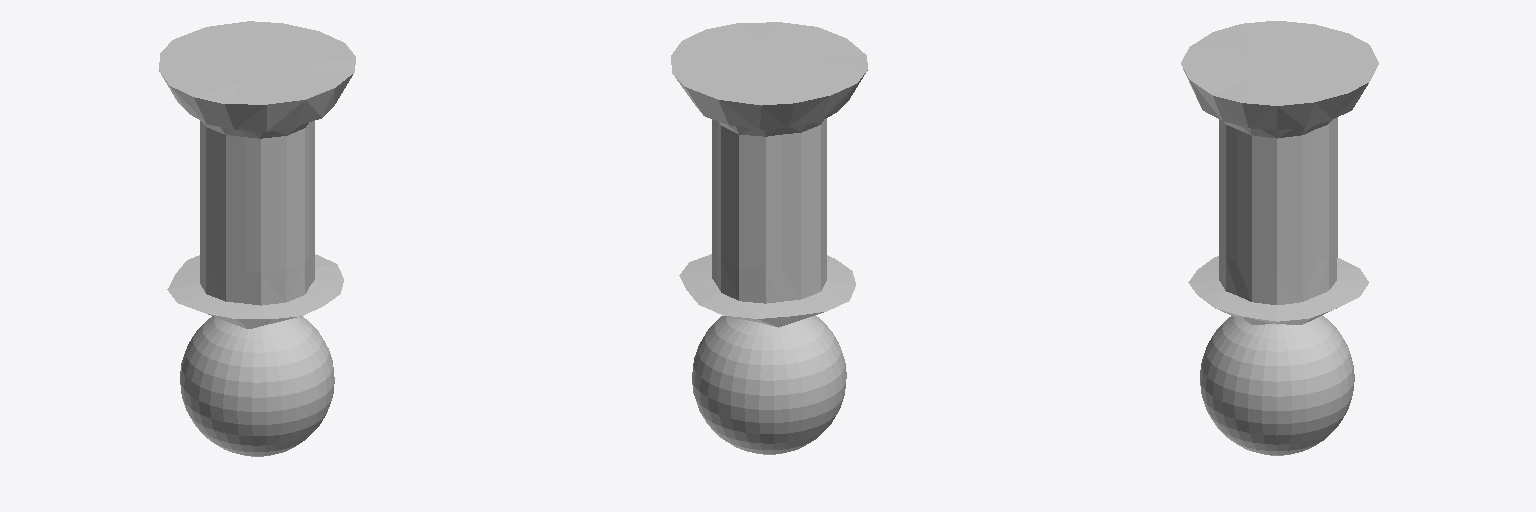
The model's file is Player.obj.
3 views of the same model, side by side, from view 1: azimuth 30°, elevation 25°; view 2: azimuth 150°, elevation 25°; view 3: azimuth 270°, elevation 25° (orthographic).
Parts seen in each view (by area): view 1: 立方体; view 2: 立方体; view 3: 立方体.
Boxes of the visible parts, x1=… form: 立方体: x1=159, y1=21, x2=355, y2=456; 立方体: x1=671, y1=22, x2=867, y2=454; 立方体: x1=1181, y1=21, x2=1378, y2=455.
Bounding box in the file's own units: 0.6154 × 1.29 × 0.6039.